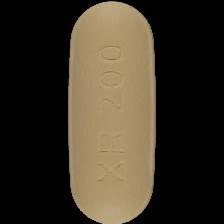64725-0282: (0, 0, 224, 224)
